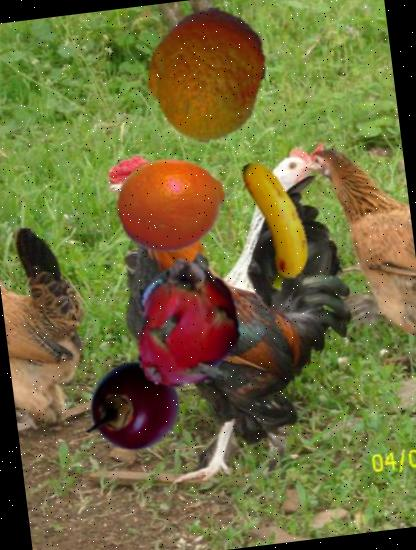Banana: (199, 154, 341, 296)
Mandarine: (132, 0, 282, 150)
Pitahaya: (108, 242, 266, 399)
Tamarillo: (83, 356, 186, 458)
Tangelo: (110, 144, 233, 266)
